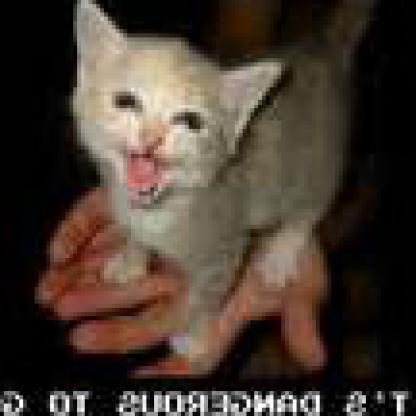cat: (65, 0, 366, 362)
